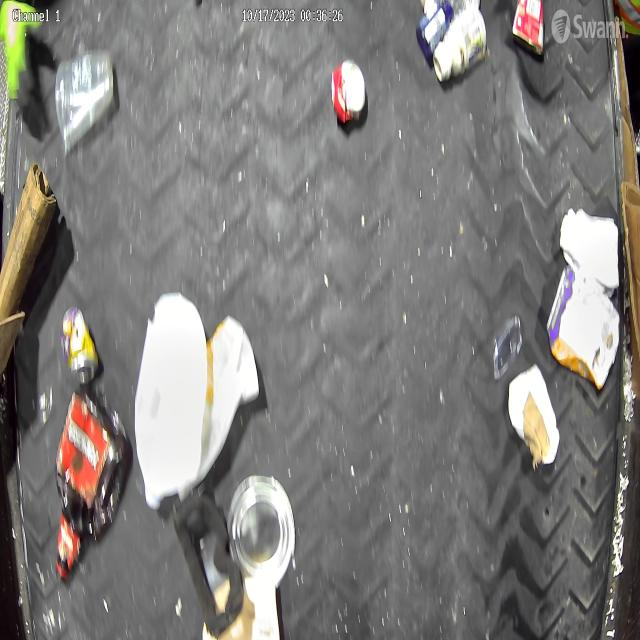can: (227, 475, 296, 586), (60, 303, 101, 387), (332, 57, 368, 131), (510, 0, 546, 58)
milk_jug: (134, 293, 208, 507), (201, 316, 260, 500)
non_white_jug: (54, 389, 131, 581), (547, 265, 620, 390)
